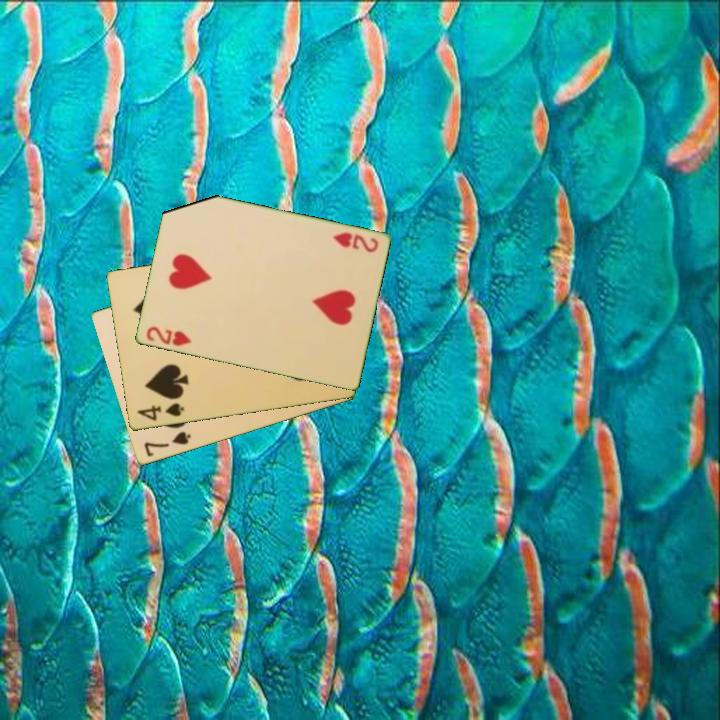2h: (329, 229, 381, 256), (142, 323, 194, 349)
4s: (133, 400, 187, 424)
7s: (140, 428, 194, 460)
